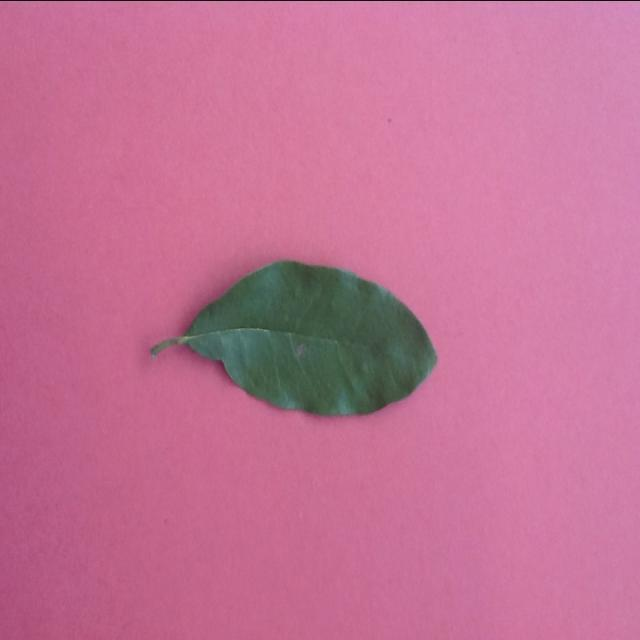foliage: (142, 253, 440, 420)
